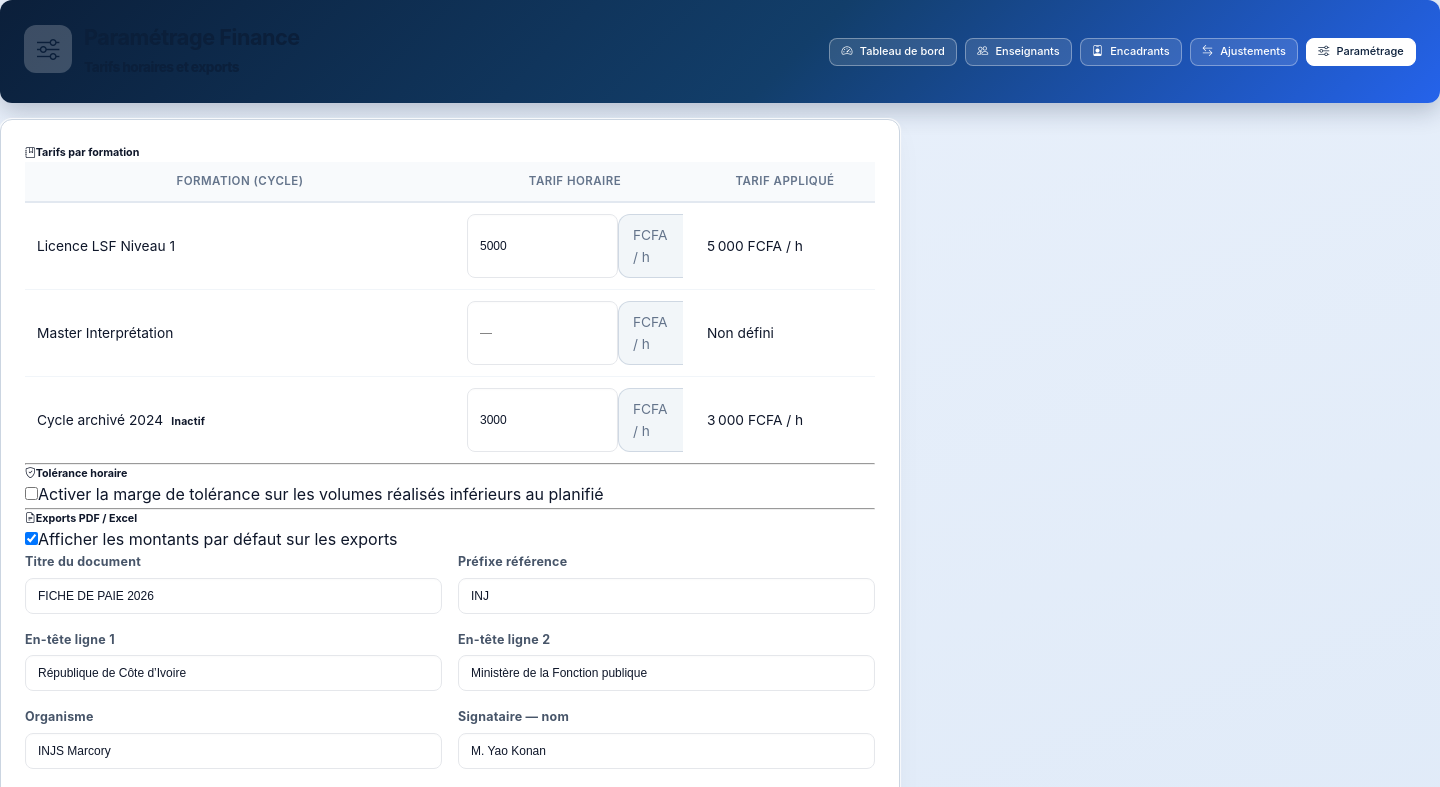
Test: pages/FinanceParametrage.jsx — chargement et affichage (LOT 28) › révèle les champs de tolérance (valeurs servies) avec le texte d'explication
expect the text "Tolérance fixe (minutes)" is not shown: met
Click the checkbox labelled "Activer la marge de tolérance": (32, 494) [25,487,38,500]
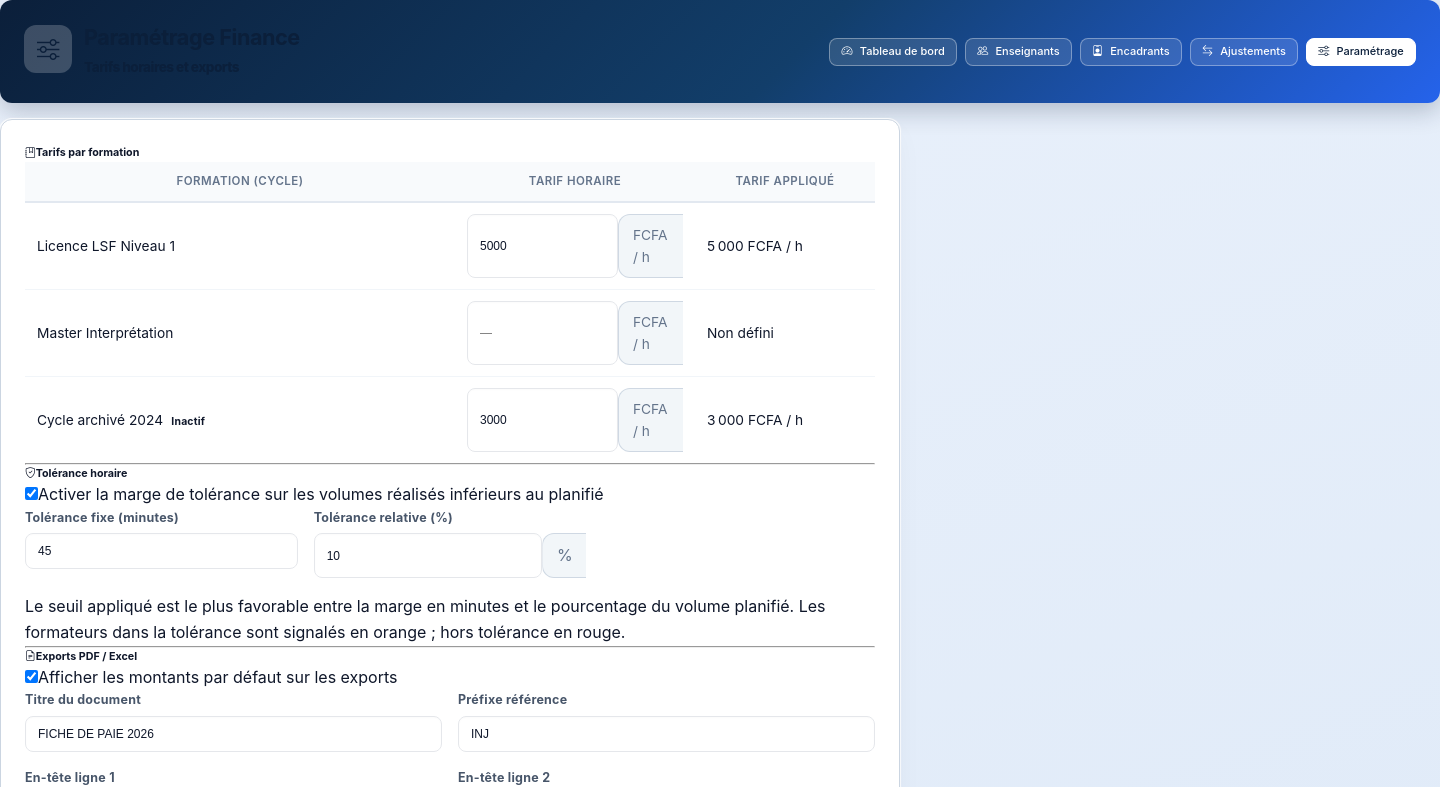
expect the checkbox labelled "Activer la marge de tolérance" is checked: met, box [25,487,38,500]
expect the number field below "Tolérance fixe (minutes)" holds "45": met, box [25,533,298,569]
expect the number field below "Tolérance relative (%)" holds "10": met, box [314,533,542,578]
